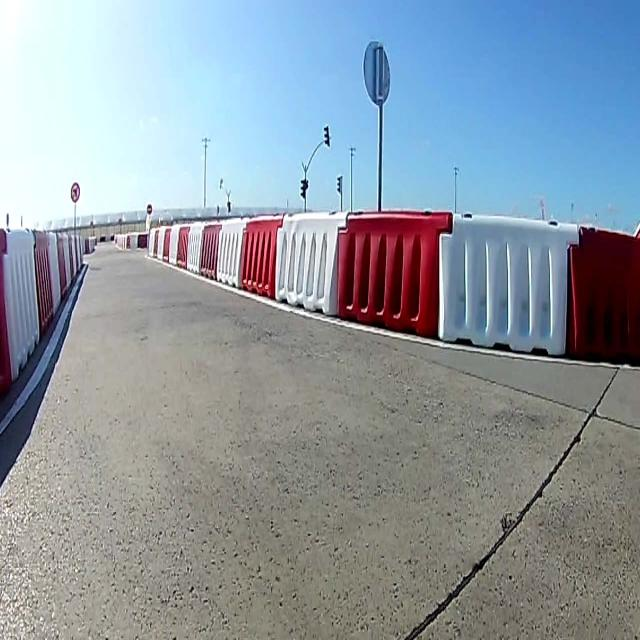soladonulmez: (71, 181, 79, 203)
